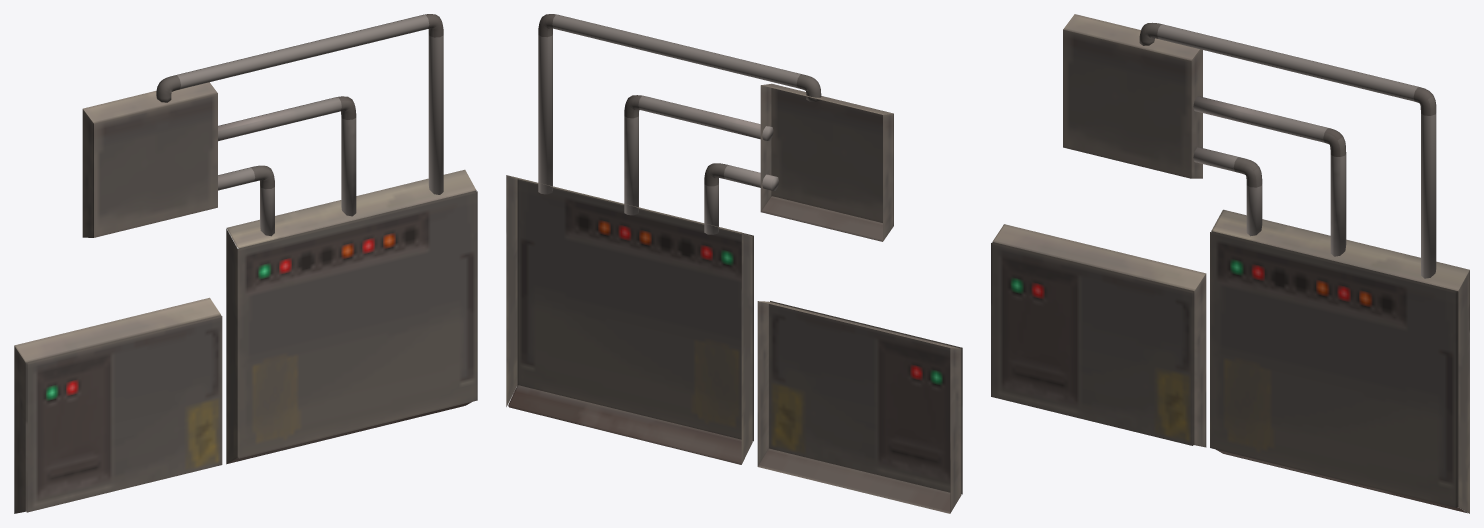
Rendered from fuseboxes.fbx.
The picture shows the model from 3 angles, left to right: view 1: azimuth 30°, elevation 25°; view 2: azimuth 150°, elevation 25°; view 3: azimuth 330°, elevation 25°; orthographic projection. The views are drawn at different scales.
Parts seen in each view (by area): view 1: Cube.003, Cube.004, Cube.001, Cube, Cylinder.002, Cube.002, Cylinder.001, Cylinder; view 2: Cube, Cube.002, Cube.001, Cylinder.002, Cylinder.001, Cylinder, Cube.004; view 3: Cube.003, Cube.004, Cube.001, Cube, Cylinder.002, Cube.002, Cylinder.001, Cylinder.
Boxes of the visible parts, left/top/right/bottom form: Cube.003: left=238, top=191, right=477, bottom=458; Cube.004: left=26, top=316, right=222, bottom=512; Cube.001: left=82, top=82, right=217, bottom=237; Cube: left=226, top=169, right=476, bottom=464; Cylinder.002: left=156, top=14, right=443, bottom=194; Cube.002: left=14, top=297, right=221, bottom=513; Cylinder.001: left=218, top=96, right=356, bottom=216; Cylinder: left=218, top=165, right=274, bottom=236; Cube: left=506, top=175, right=752, bottom=464; Cube.002: left=757, top=301, right=961, bottom=513; Cube.001: left=760, top=83, right=893, bottom=241; Cylinder.002: left=538, top=14, right=821, bottom=194; Cylinder.001: left=624, top=95, right=773, bottom=215; Cylinder: left=704, top=163, right=778, bottom=234; Cube.004: left=770, top=301, right=962, bottom=494; Cube.003: left=1210, top=232, right=1456, bottom=507; Cube.004: left=991, top=243, right=1193, bottom=445; Cube.001: left=1063, top=14, right=1202, bottom=178; Cube: left=1211, top=209, right=1469, bottom=513; Cylinder.002: left=1139, top=22, right=1436, bottom=278; Cube.002: left=992, top=224, right=1206, bottom=447; Cylinder.001: left=1193, top=96, right=1346, bottom=256; Cylinder: left=1193, top=147, right=1262, bottom=236.
Size of the model in its own units: 217 by 187 by 10.51.
